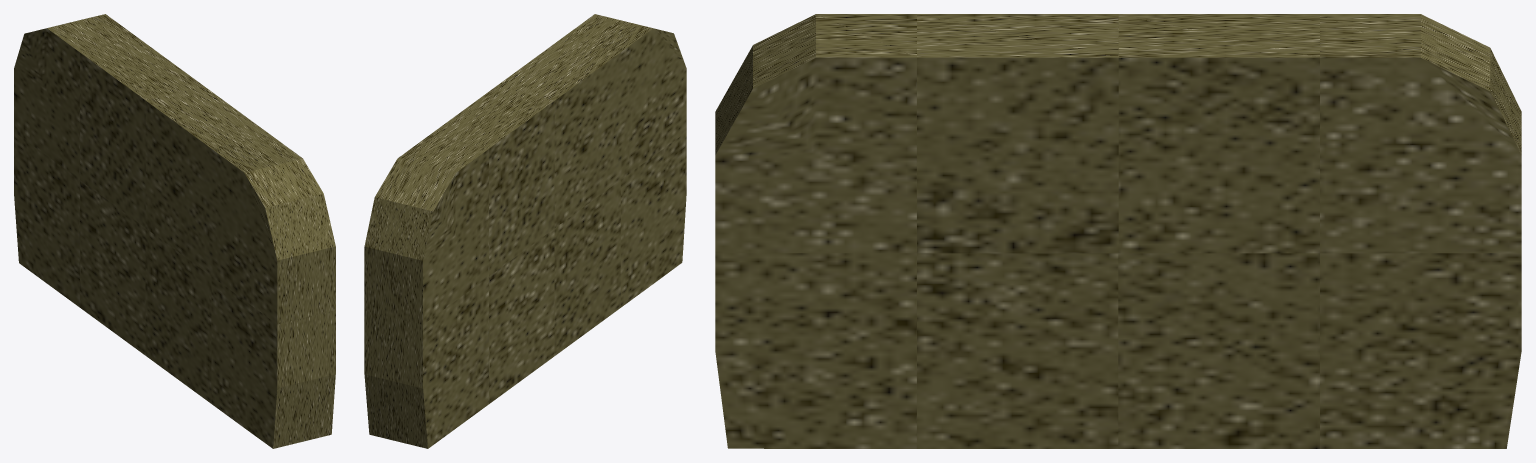
Rendered from HEDGEWORKPLEASE.fbx.
3 views of the same model, side by side, from view 1: azimuth 30°, elevation 25°; view 2: azimuth 150°, elevation 25°; view 3: azimuth 270°, elevation 25° (orthographic). The views are drawn at different scales.
Visible parts, largest first — view 1: Cube; view 2: Cube; view 3: Cube.
Boxes of the visible parts, box(x1,y1,x2,y2) form: Cube: box(14, 14, 335, 448); Cube: box(364, 14, 686, 448); Cube: box(715, 14, 1521, 448).
Size of the model in its own units: 201 by 833 by 1556.
1 material, 1 textured.
